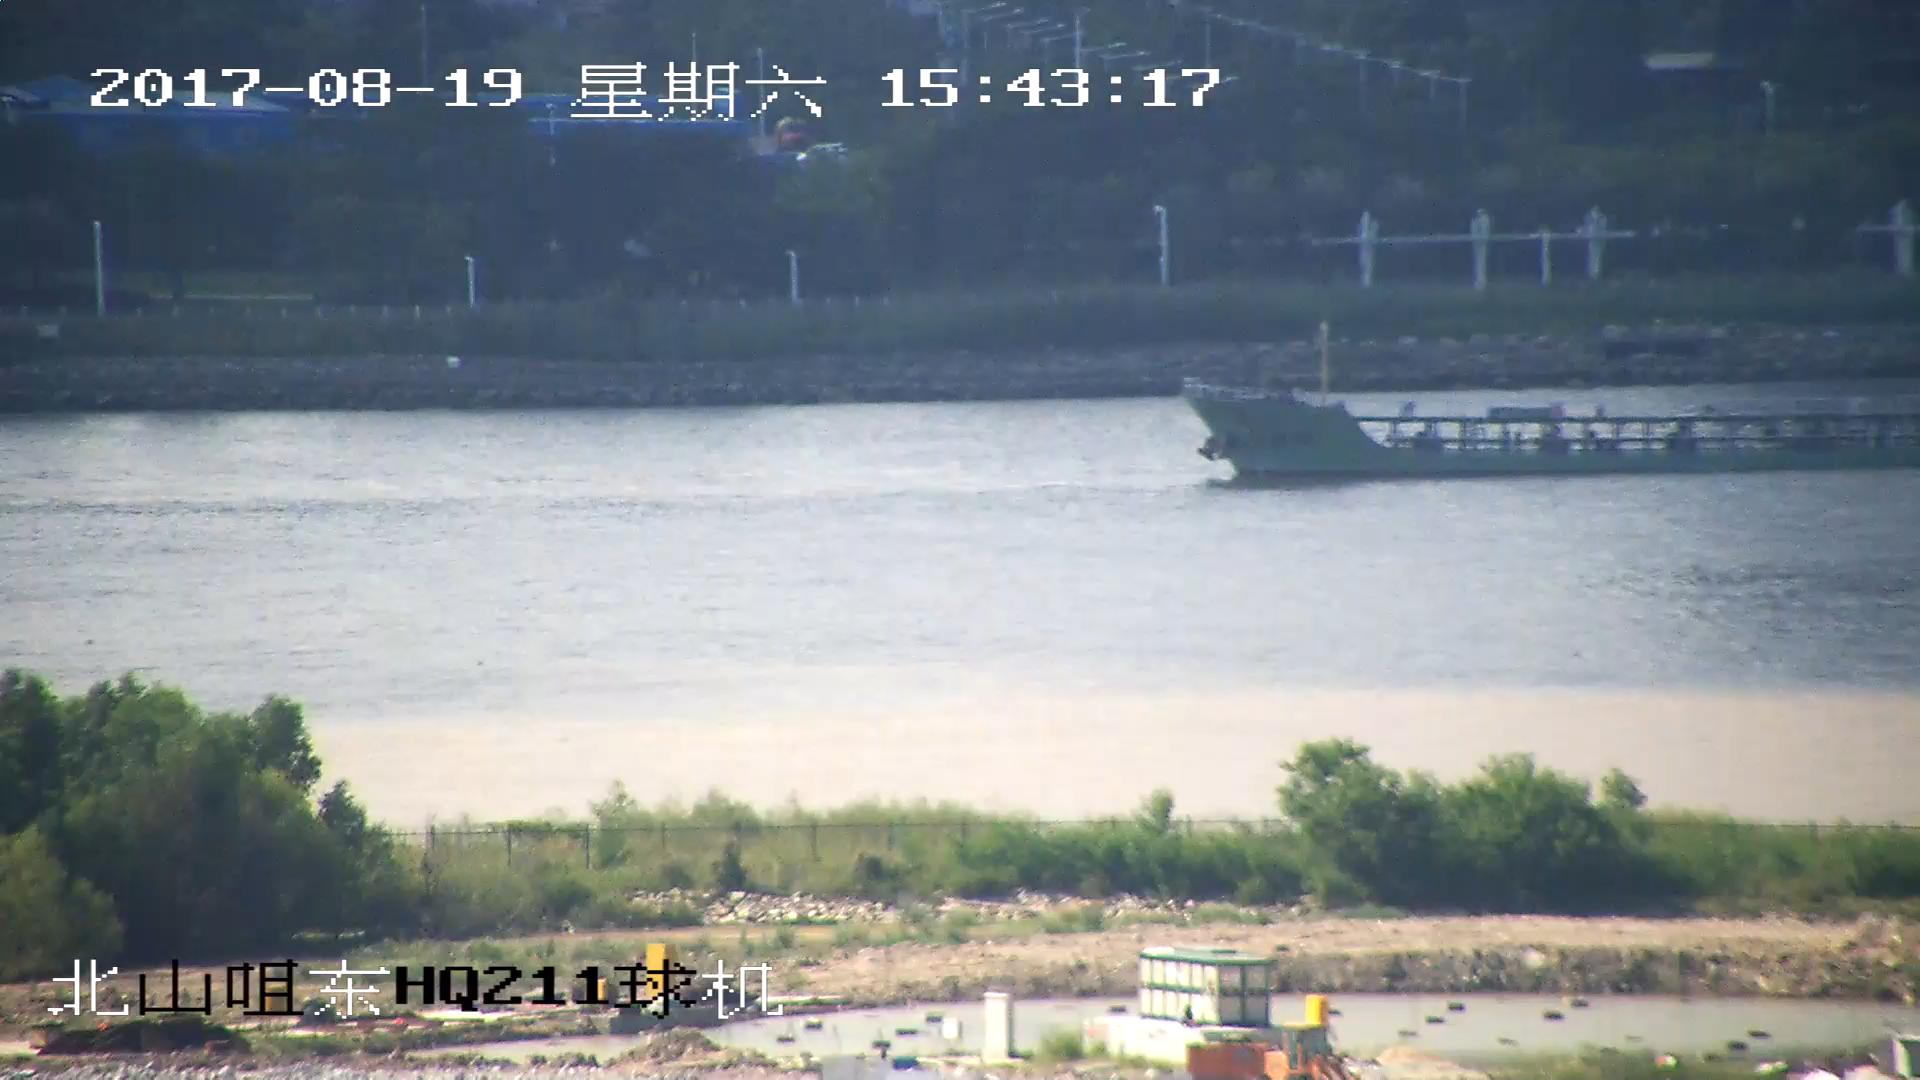general cargo ship: (1185, 379, 1920, 480)
